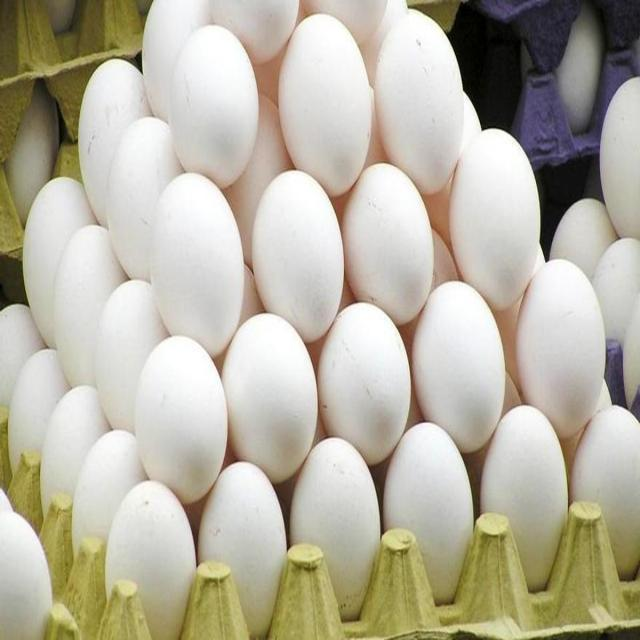huevos: (150, 172, 250, 370), (410, 280, 512, 460), (254, 159, 348, 350)
